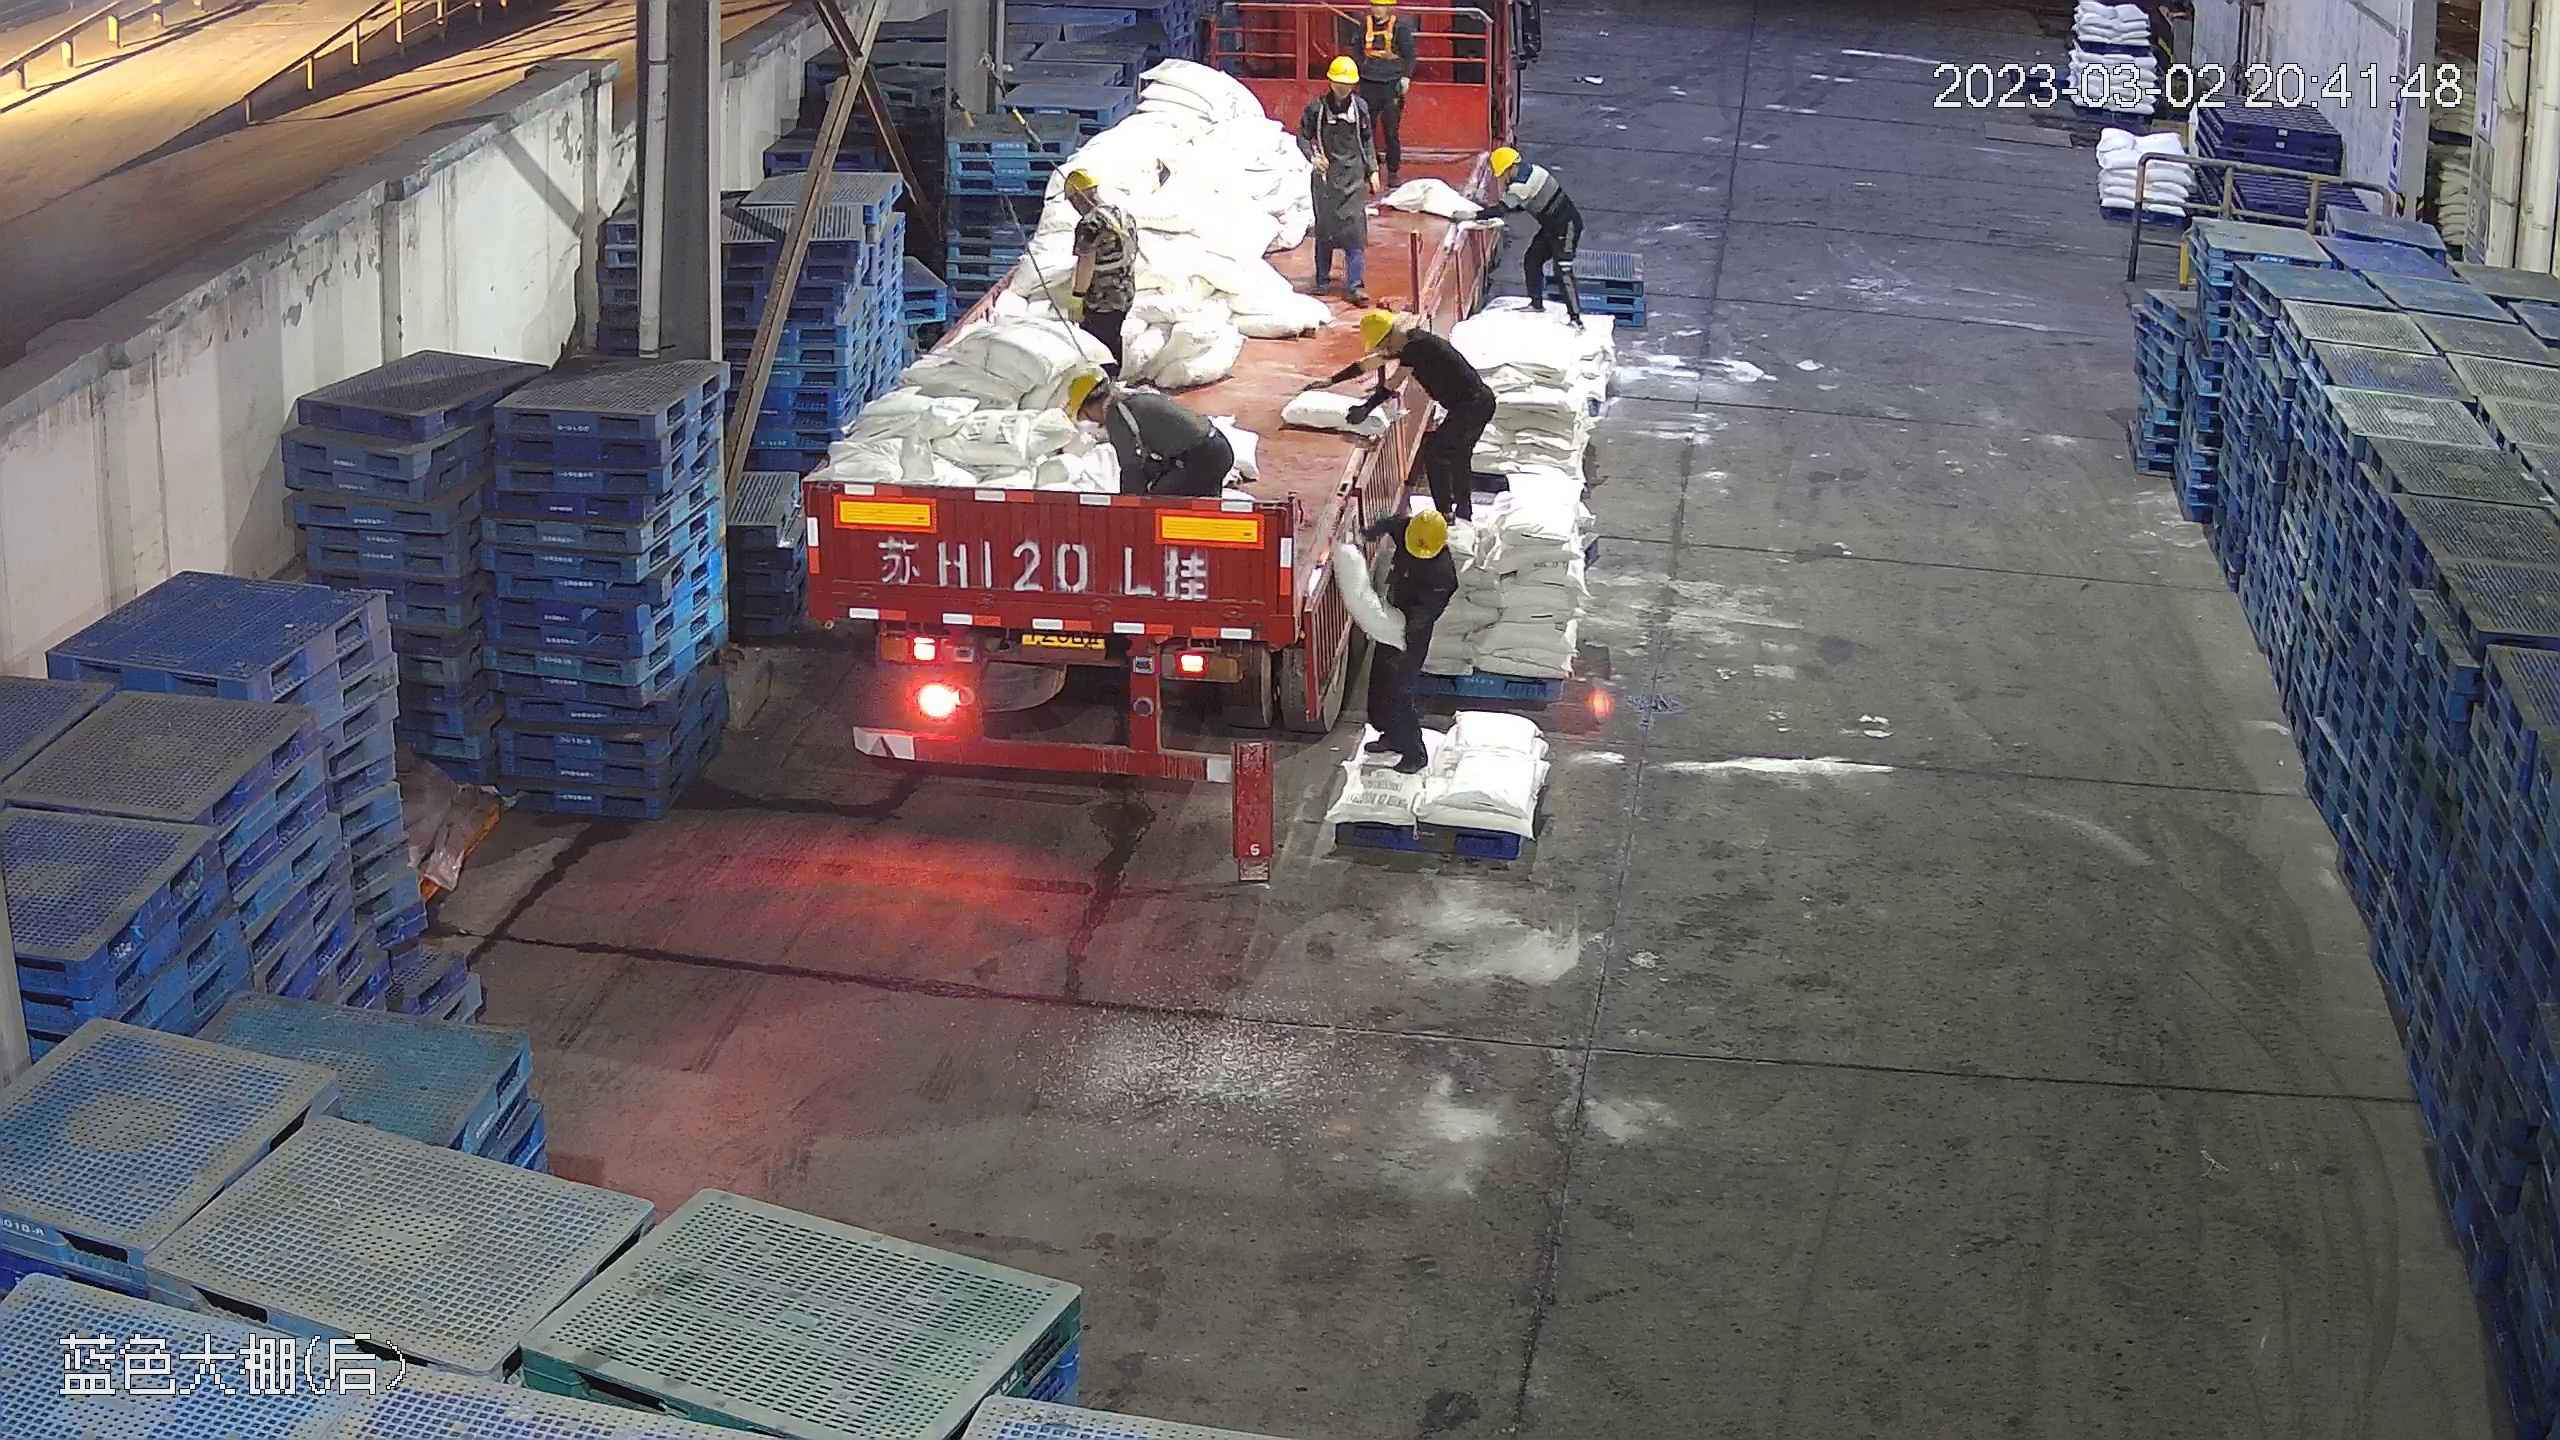belt: (1100, 381, 1190, 455), (1086, 204, 1145, 269), (1312, 97, 1364, 158), (1361, 5, 1408, 57)
head: (1060, 369, 1166, 447), (1352, 308, 1452, 387), (1368, 503, 1461, 584), (1304, 51, 1372, 128), (1063, 163, 1131, 239), (1483, 146, 1557, 203), (1353, 1, 1410, 41)
helmet: (1402, 507, 1453, 561), (1062, 369, 1107, 423), (1355, 306, 1400, 359), (1060, 164, 1102, 197), (1485, 143, 1518, 180), (1325, 53, 1363, 77)
people: (1347, 498, 1464, 779), (1056, 371, 1241, 549), (1348, 306, 1499, 522), (1297, 49, 1383, 298), (1475, 144, 1583, 325), (1057, 159, 1138, 383), (1351, 1, 1416, 191)
truck: (824, 40, 1539, 811)
